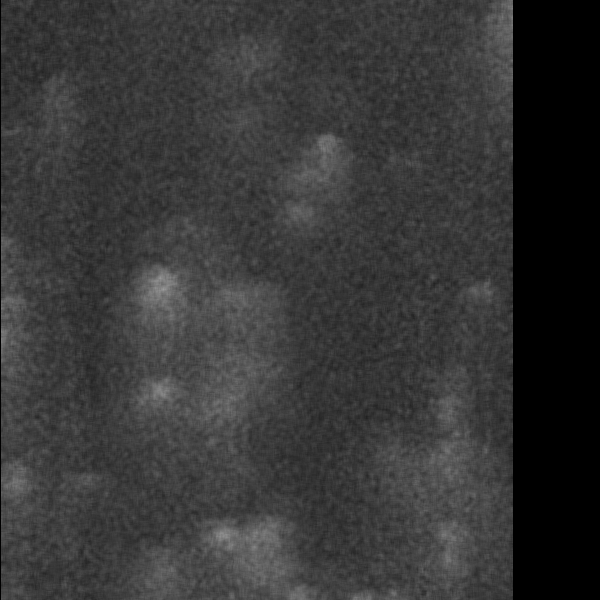spark: (272, 153, 322, 255), (131, 264, 181, 342), (167, 521, 276, 556), (311, 132, 340, 229), (125, 375, 185, 414), (5, 458, 30, 534), (428, 521, 460, 567), (213, 281, 261, 308), (437, 436, 461, 484), (3, 293, 21, 312)
